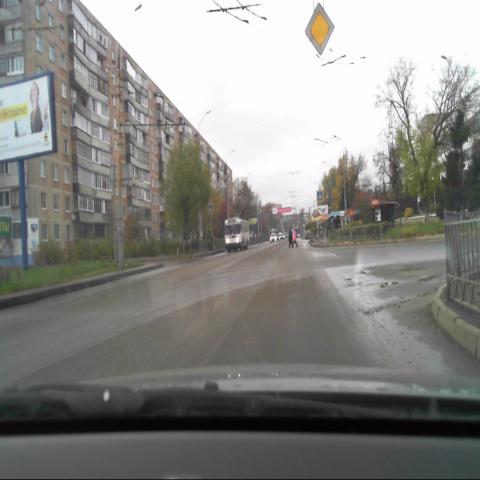2_1: (305, 3, 335, 59)
